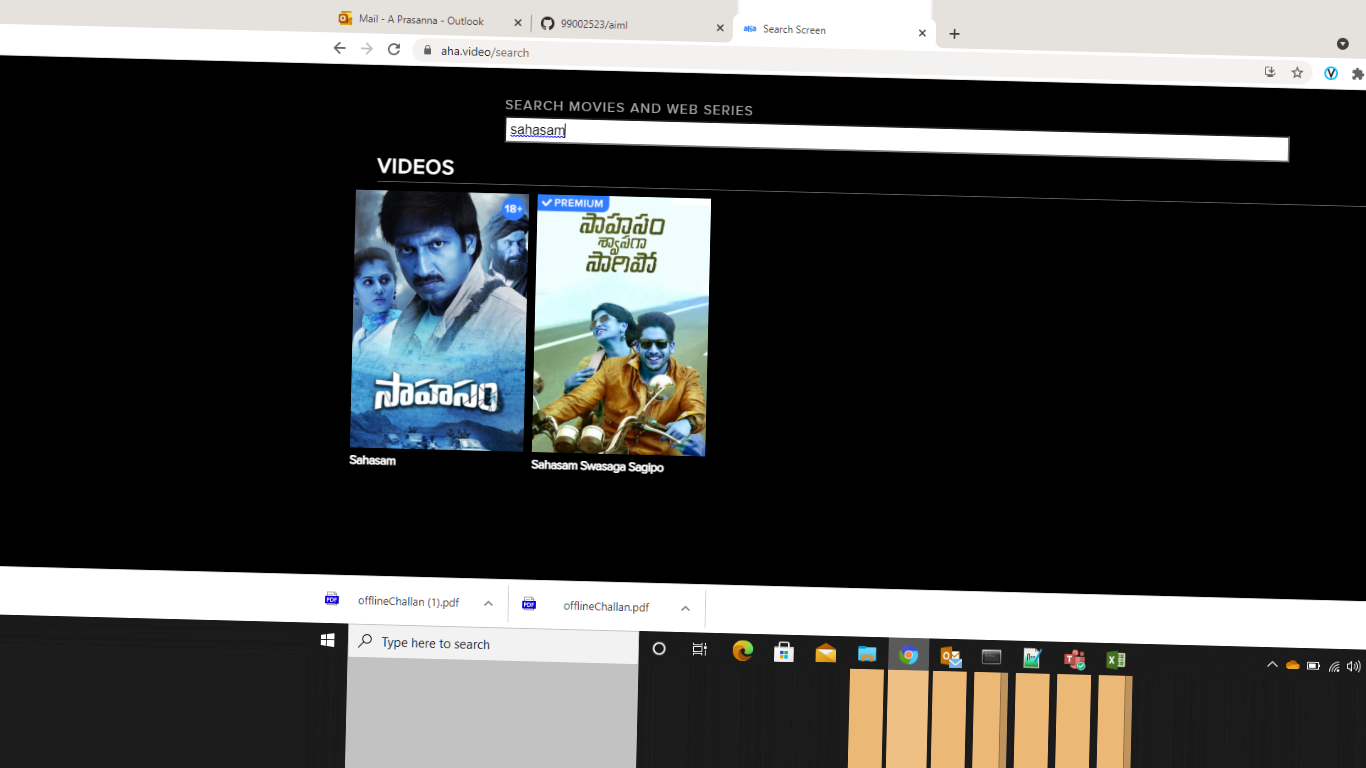resultsfound: (356, 130, 916, 186)
searchtextbox: (493, 94, 1307, 175)
